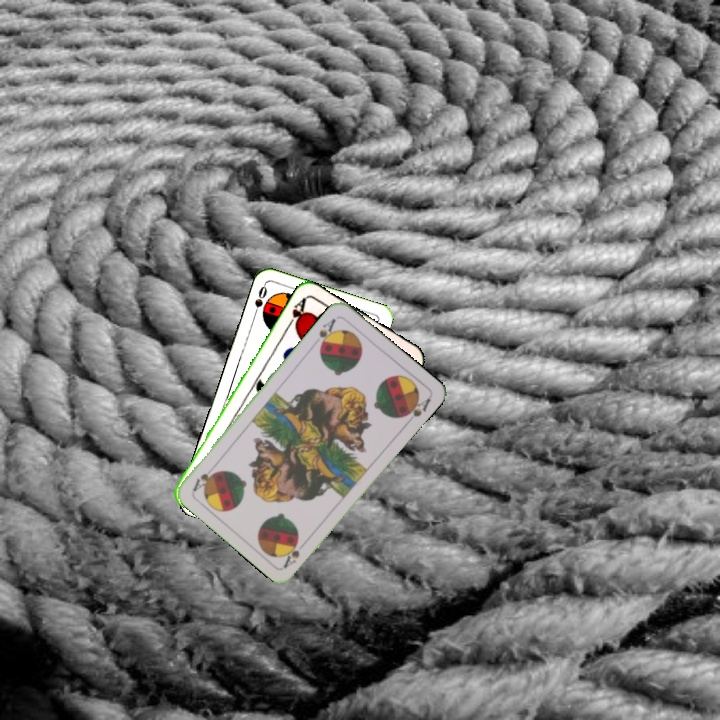HA: (282, 294, 309, 331)
SA: (279, 536, 310, 571), (315, 314, 339, 352)
SO: (249, 281, 270, 321)
